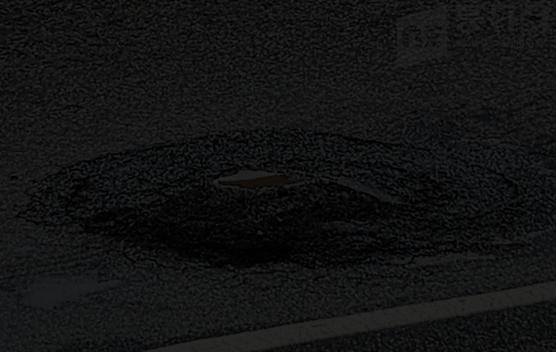pothole: (38, 104, 541, 303)
